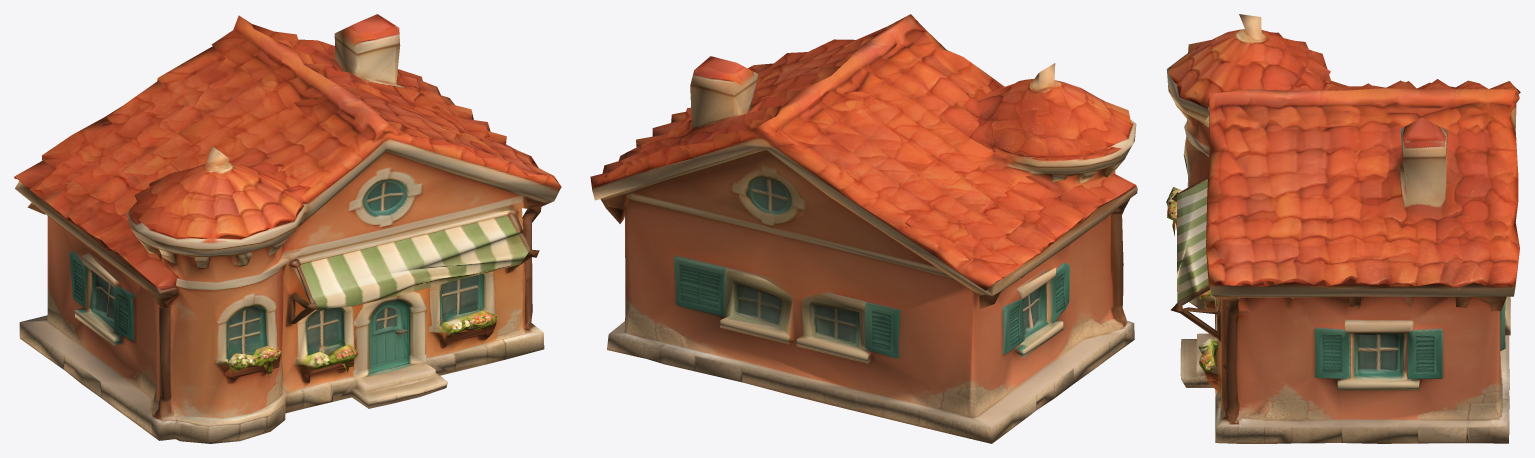
The model's file is market-coral.glb.
The picture shows the model from 3 angles, left to right: view 1: azimuth 30°, elevation 25°; view 2: azimuth 150°, elevation 25°; view 3: azimuth 270°, elevation 25°; orthographic projection. The views are drawn at different scales.
Parts seen in each view (by area): view 1: market-coral; view 2: market-coral; view 3: market-coral.
Part boxes in pixels (x1,y1,x2,y2): market-coral: (14, 14, 561, 443); market-coral: (590, 14, 1137, 443); market-coral: (1166, 14, 1520, 443).
Bounding box in the file's own units: 10.5 × 6.7 × 7.6.
1 material, 1 textured.
